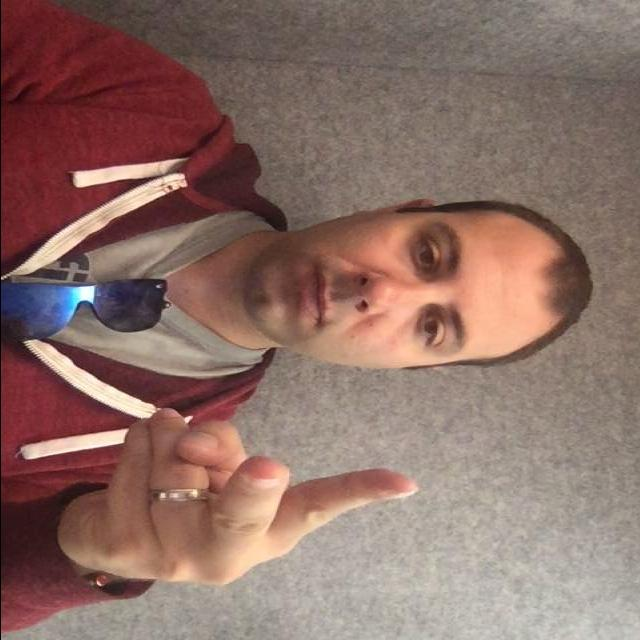Scissors: (48, 406, 424, 608)
